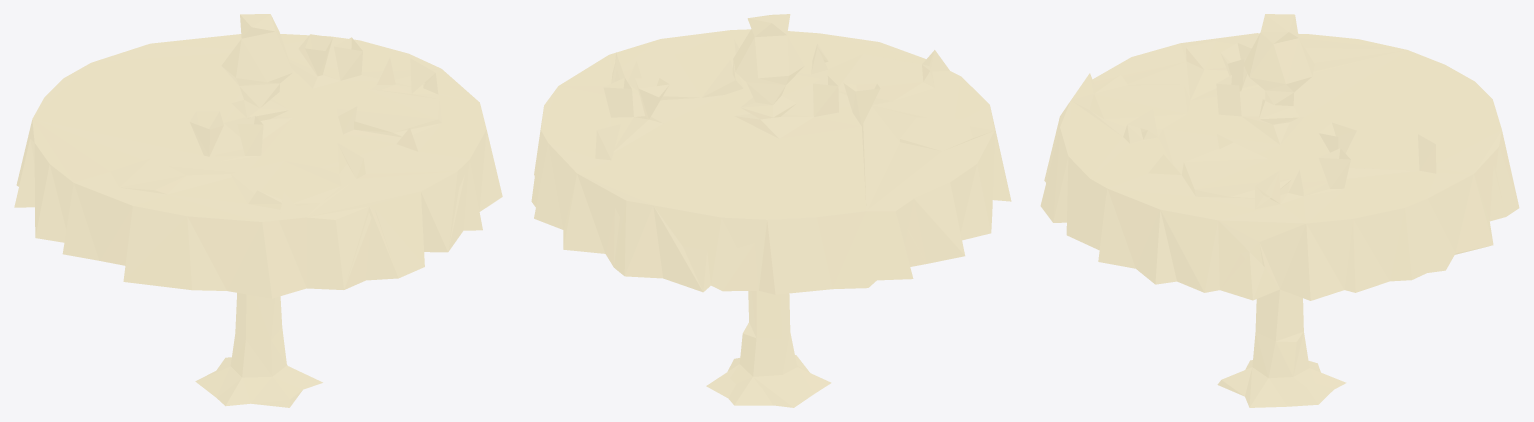
The model's file is prop_dining_table_cluster.glb.
3 renders of one model, left to right at view 1: azimuth 30°, elevation 25°; view 2: azimuth 150°, elevation 25°; view 3: azimuth 270°, elevation 25°, orthographic.
Parts seen in each view (by area): view 1: prop_dining_table_cluster; view 2: prop_dining_table_cluster; view 3: prop_dining_table_cluster.
Boxes of the visible parts, <box> form: prop_dining_table_cluster: <box>14,14,502,407</box>; prop_dining_table_cluster: <box>531,14,1011,407</box>; prop_dining_table_cluster: <box>1040,14,1519,407</box>.
Bounding box in the file's own units: 0.8825 × 0.7426 × 0.8734.
